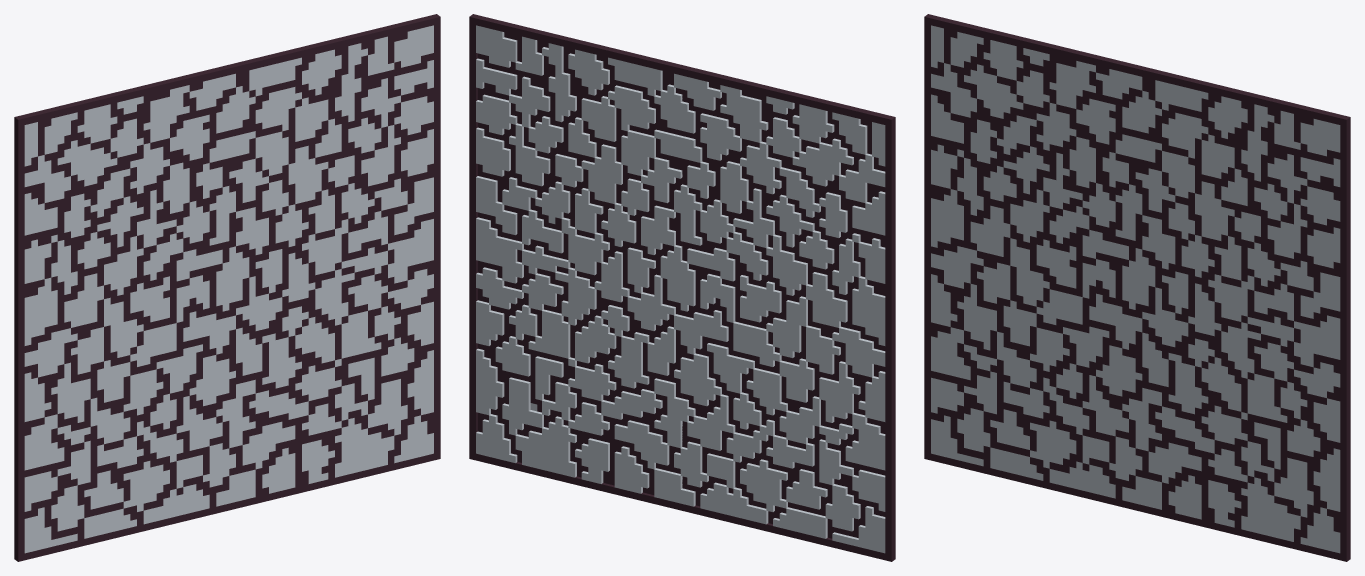
Rendered from Cobblestone Floor (64x1x64).fbx.
3 views of the same model, side by side, from view 1: azimuth 30°, elevation 25°; view 2: azimuth 150°, elevation 25°; view 3: azimuth 330°, elevation 25° (orthographic).
Visible parts, largest first — view 1: generated; view 2: generated; view 3: generated.
Boxes of the visible parts, bbox=[...] form: generated: bbox=[14, 14, 440, 561]; generated: bbox=[469, 14, 895, 561]; generated: bbox=[924, 14, 1350, 561].
Bounding box in the file's own units: 2560 × 2560 × 40.
